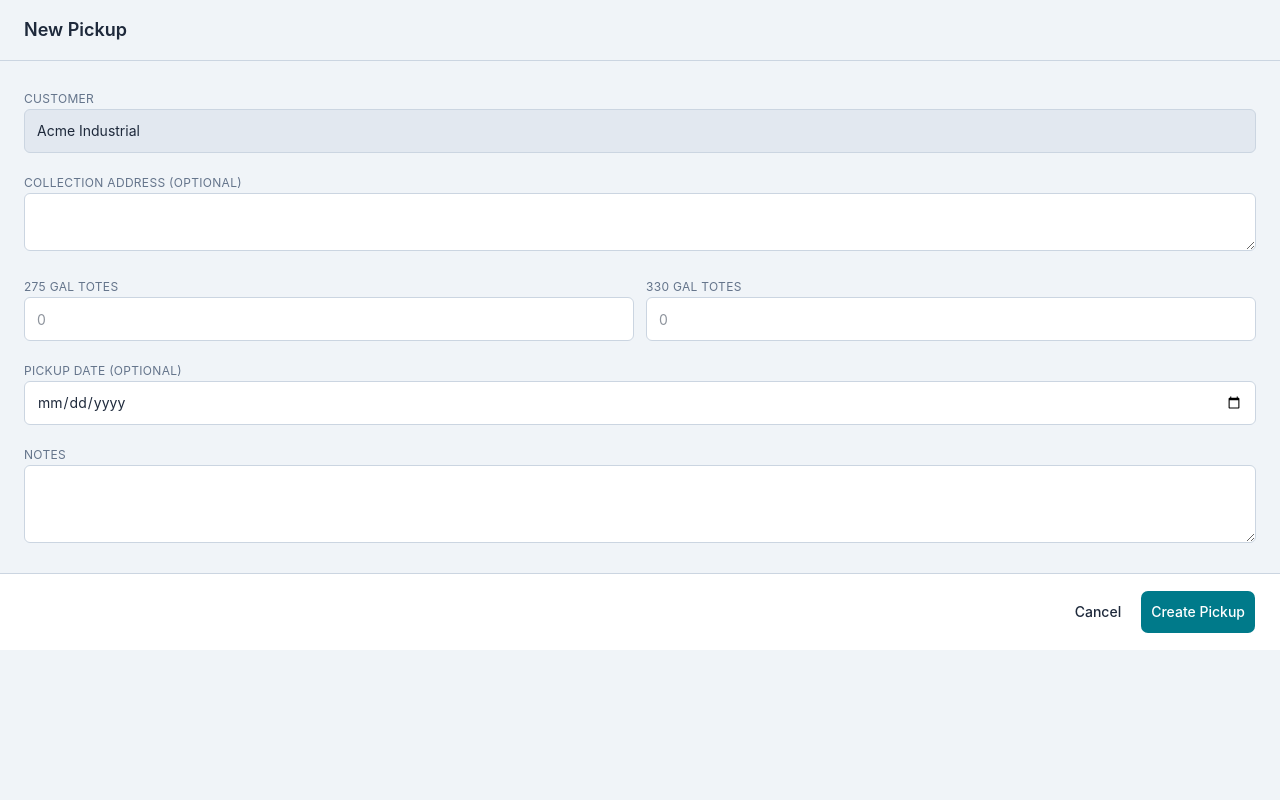
Scenario: PickupForm › surfaces a transport-level rejection as the generic failure and logs context
The image size is (1280, 800).
Step 1. Type "2" into the number field labelled "330 gal totes" → [951, 319], box [646,297,1256,341]
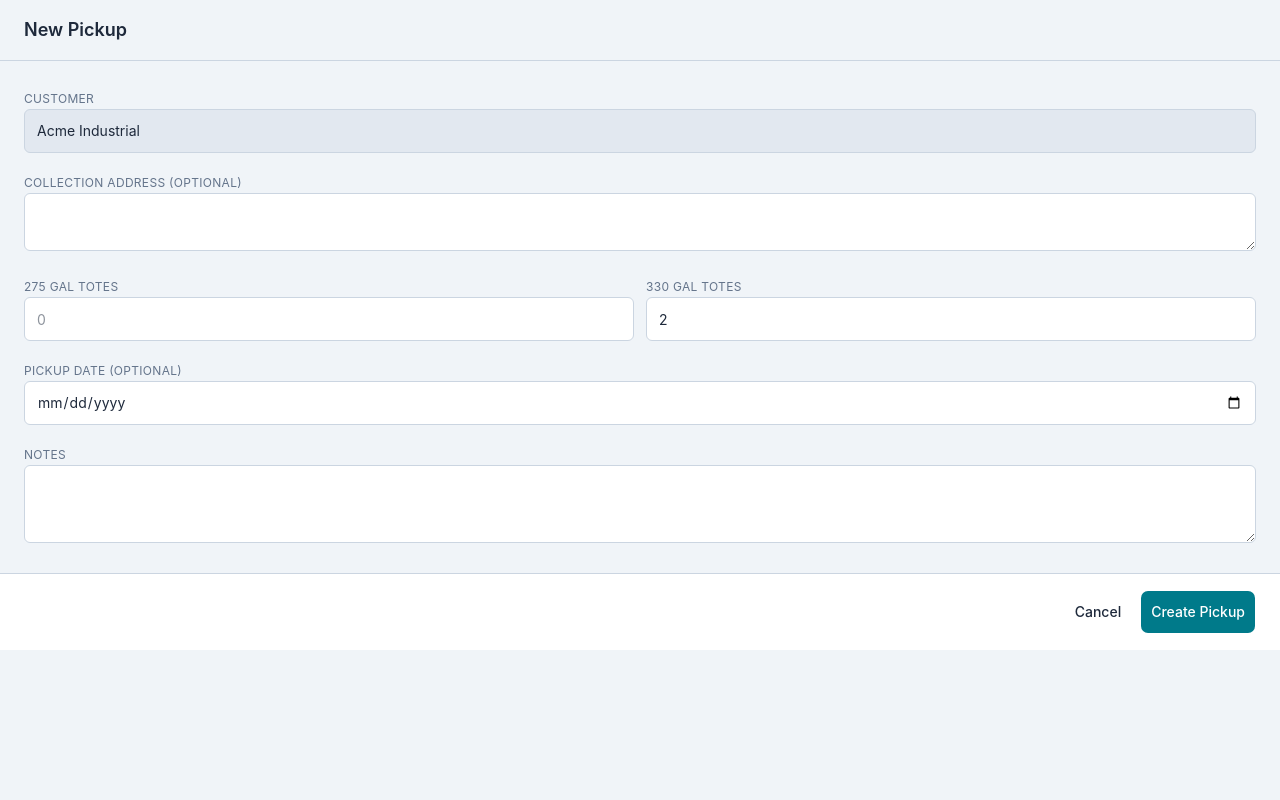
Step 2. Click the button "Create Pickup" → [1198, 612], box [1140,590,1256,634]
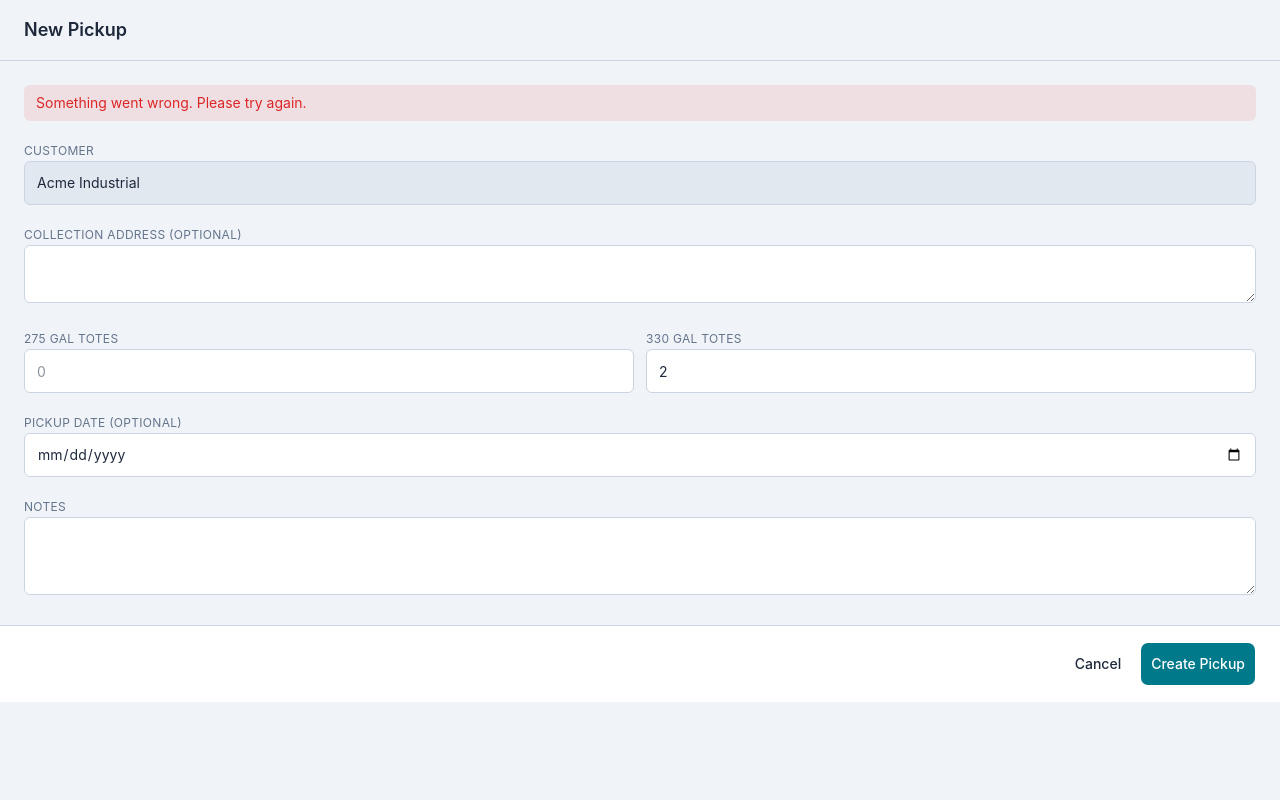
Result: the message reads "Something went wrong. Please try again." at [36,94,307,111]
